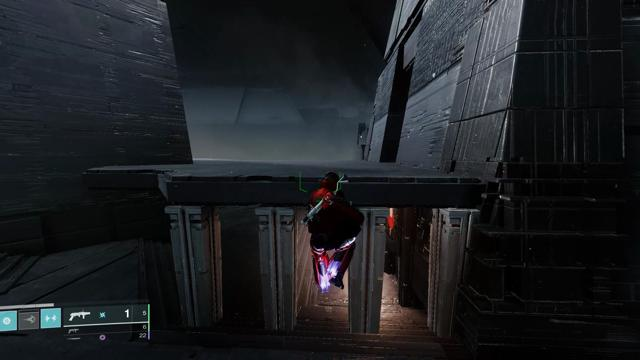kill: (385, 207, 399, 242)
